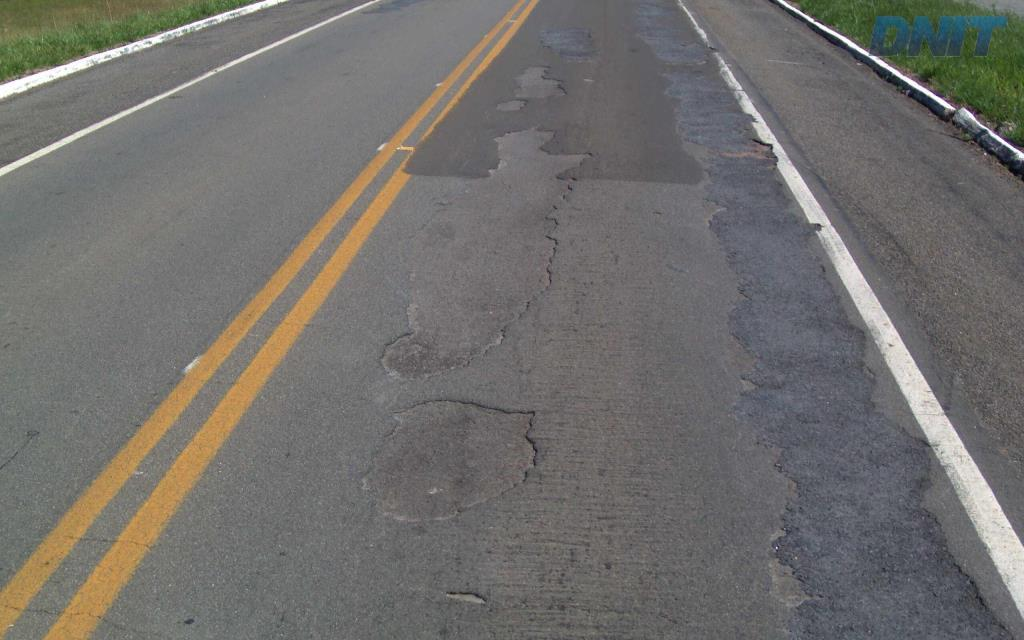pothole: (343, 123, 597, 533), (752, 521, 833, 612), (495, 62, 576, 114), (711, 135, 787, 165), (439, 584, 493, 609), (733, 374, 769, 400)
